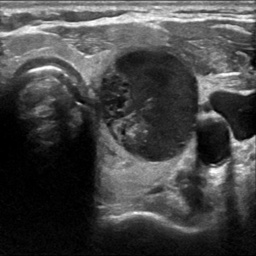mass: (99, 47, 199, 161)
